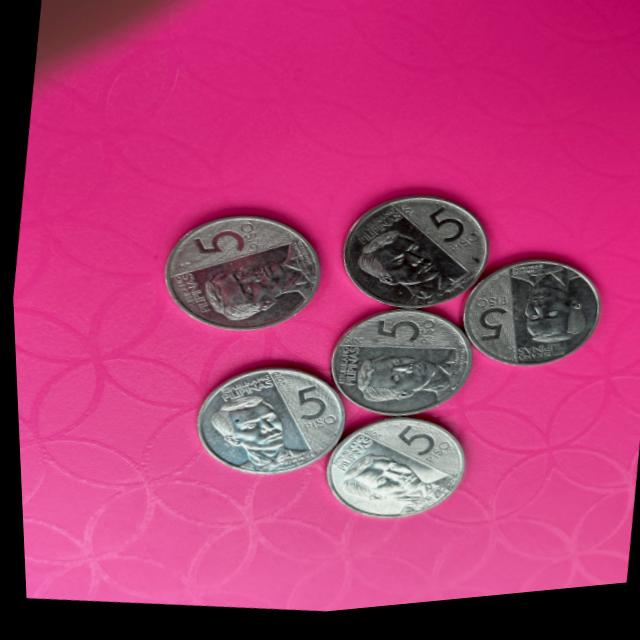5_New_Front: (401, 200, 488, 287), (274, 379, 355, 463), (366, 418, 456, 491), (178, 215, 274, 277), (366, 313, 439, 373), (464, 300, 521, 361)
